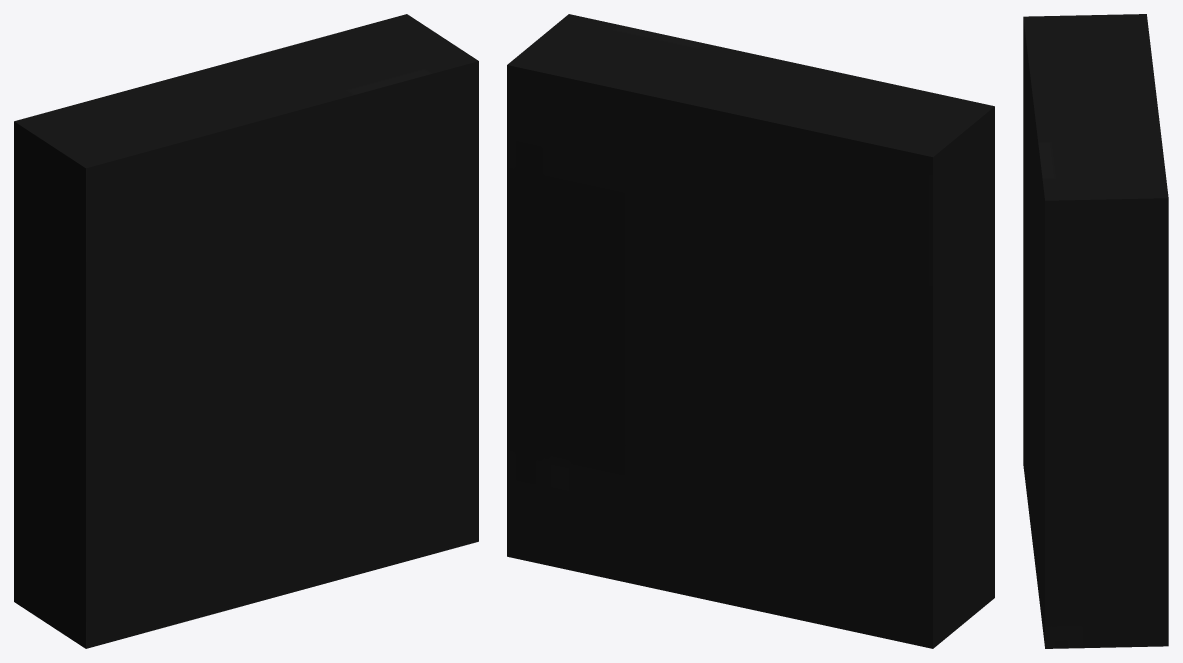
Rendered from seat__seat_pad.glb.
3 views of the same model, side by side, from view 1: azimuth 30°, elevation 25°; view 2: azimuth 150°, elevation 25°; view 3: azimuth 270°, elevation 25° (orthographic). The views are drawn at different scales.
Visible parts, largest first — view 1: world; view 2: world; view 3: world.
Part boxes in pixels (<box>): world: <box>14,14,478,648</box>; world: <box>507,14,994,648</box>; world: <box>1023,14,1168,648</box>.
Bounding box in the file's own units: 0.3039 × 0.34 × 0.0999.
Materials: 1 (1 with a texture image).
